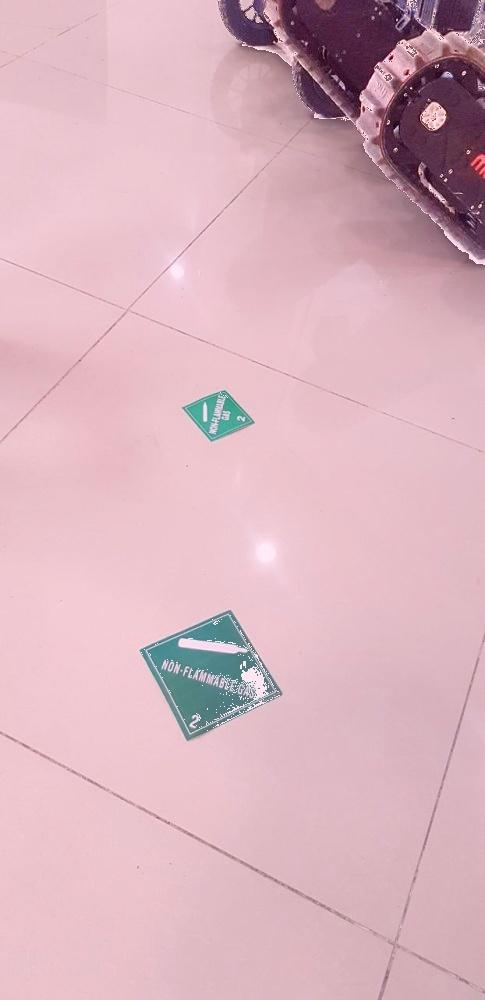non-flammable-gas: (137, 606, 286, 742), (181, 389, 258, 443)
